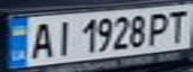1: (75, 15, 100, 54)
2: (112, 12, 133, 51)
8: (127, 11, 151, 48)
9: (93, 15, 115, 53)
A: (24, 19, 57, 60)
I: (51, 17, 75, 56)
P: (145, 9, 172, 46)
T: (163, 7, 190, 44)
